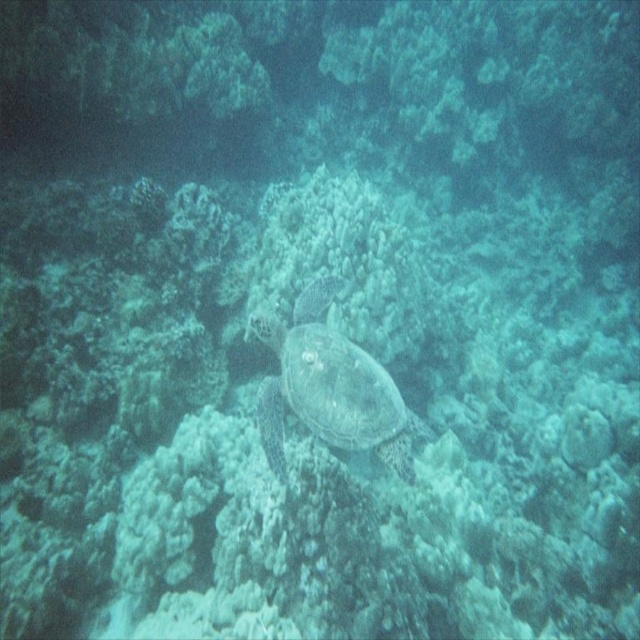Sea turtle: (244, 270, 434, 485)
